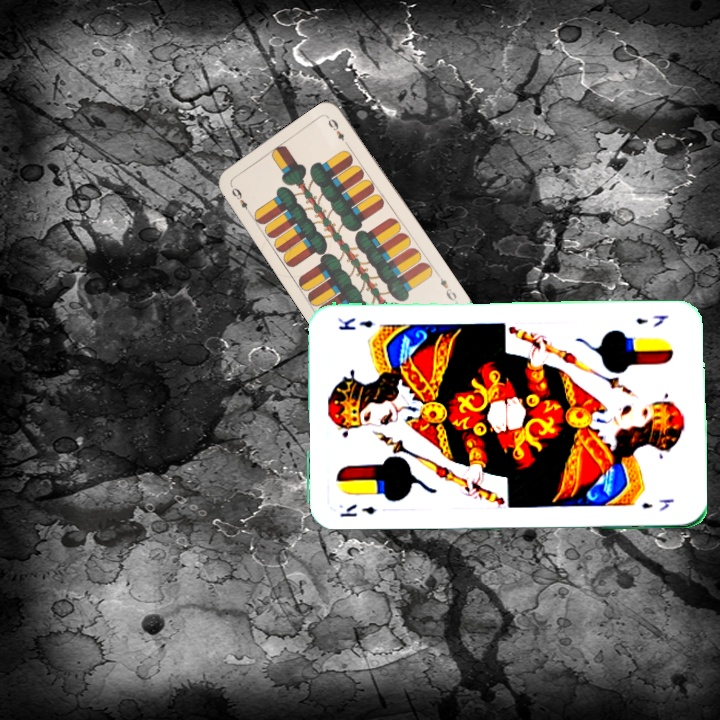E9: (432, 269, 460, 305), (226, 181, 254, 217)
EK: (336, 500, 378, 520), (632, 311, 671, 329)
